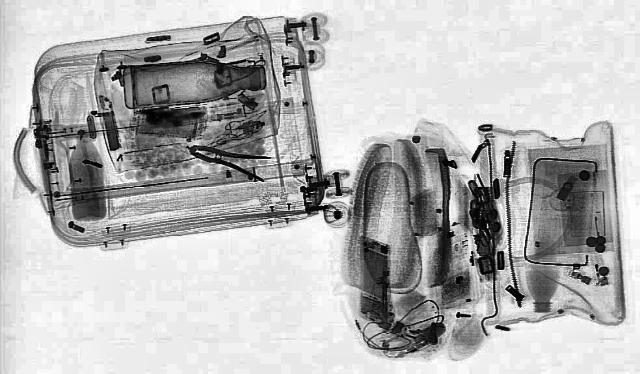Pliers: (179, 137, 285, 183)
